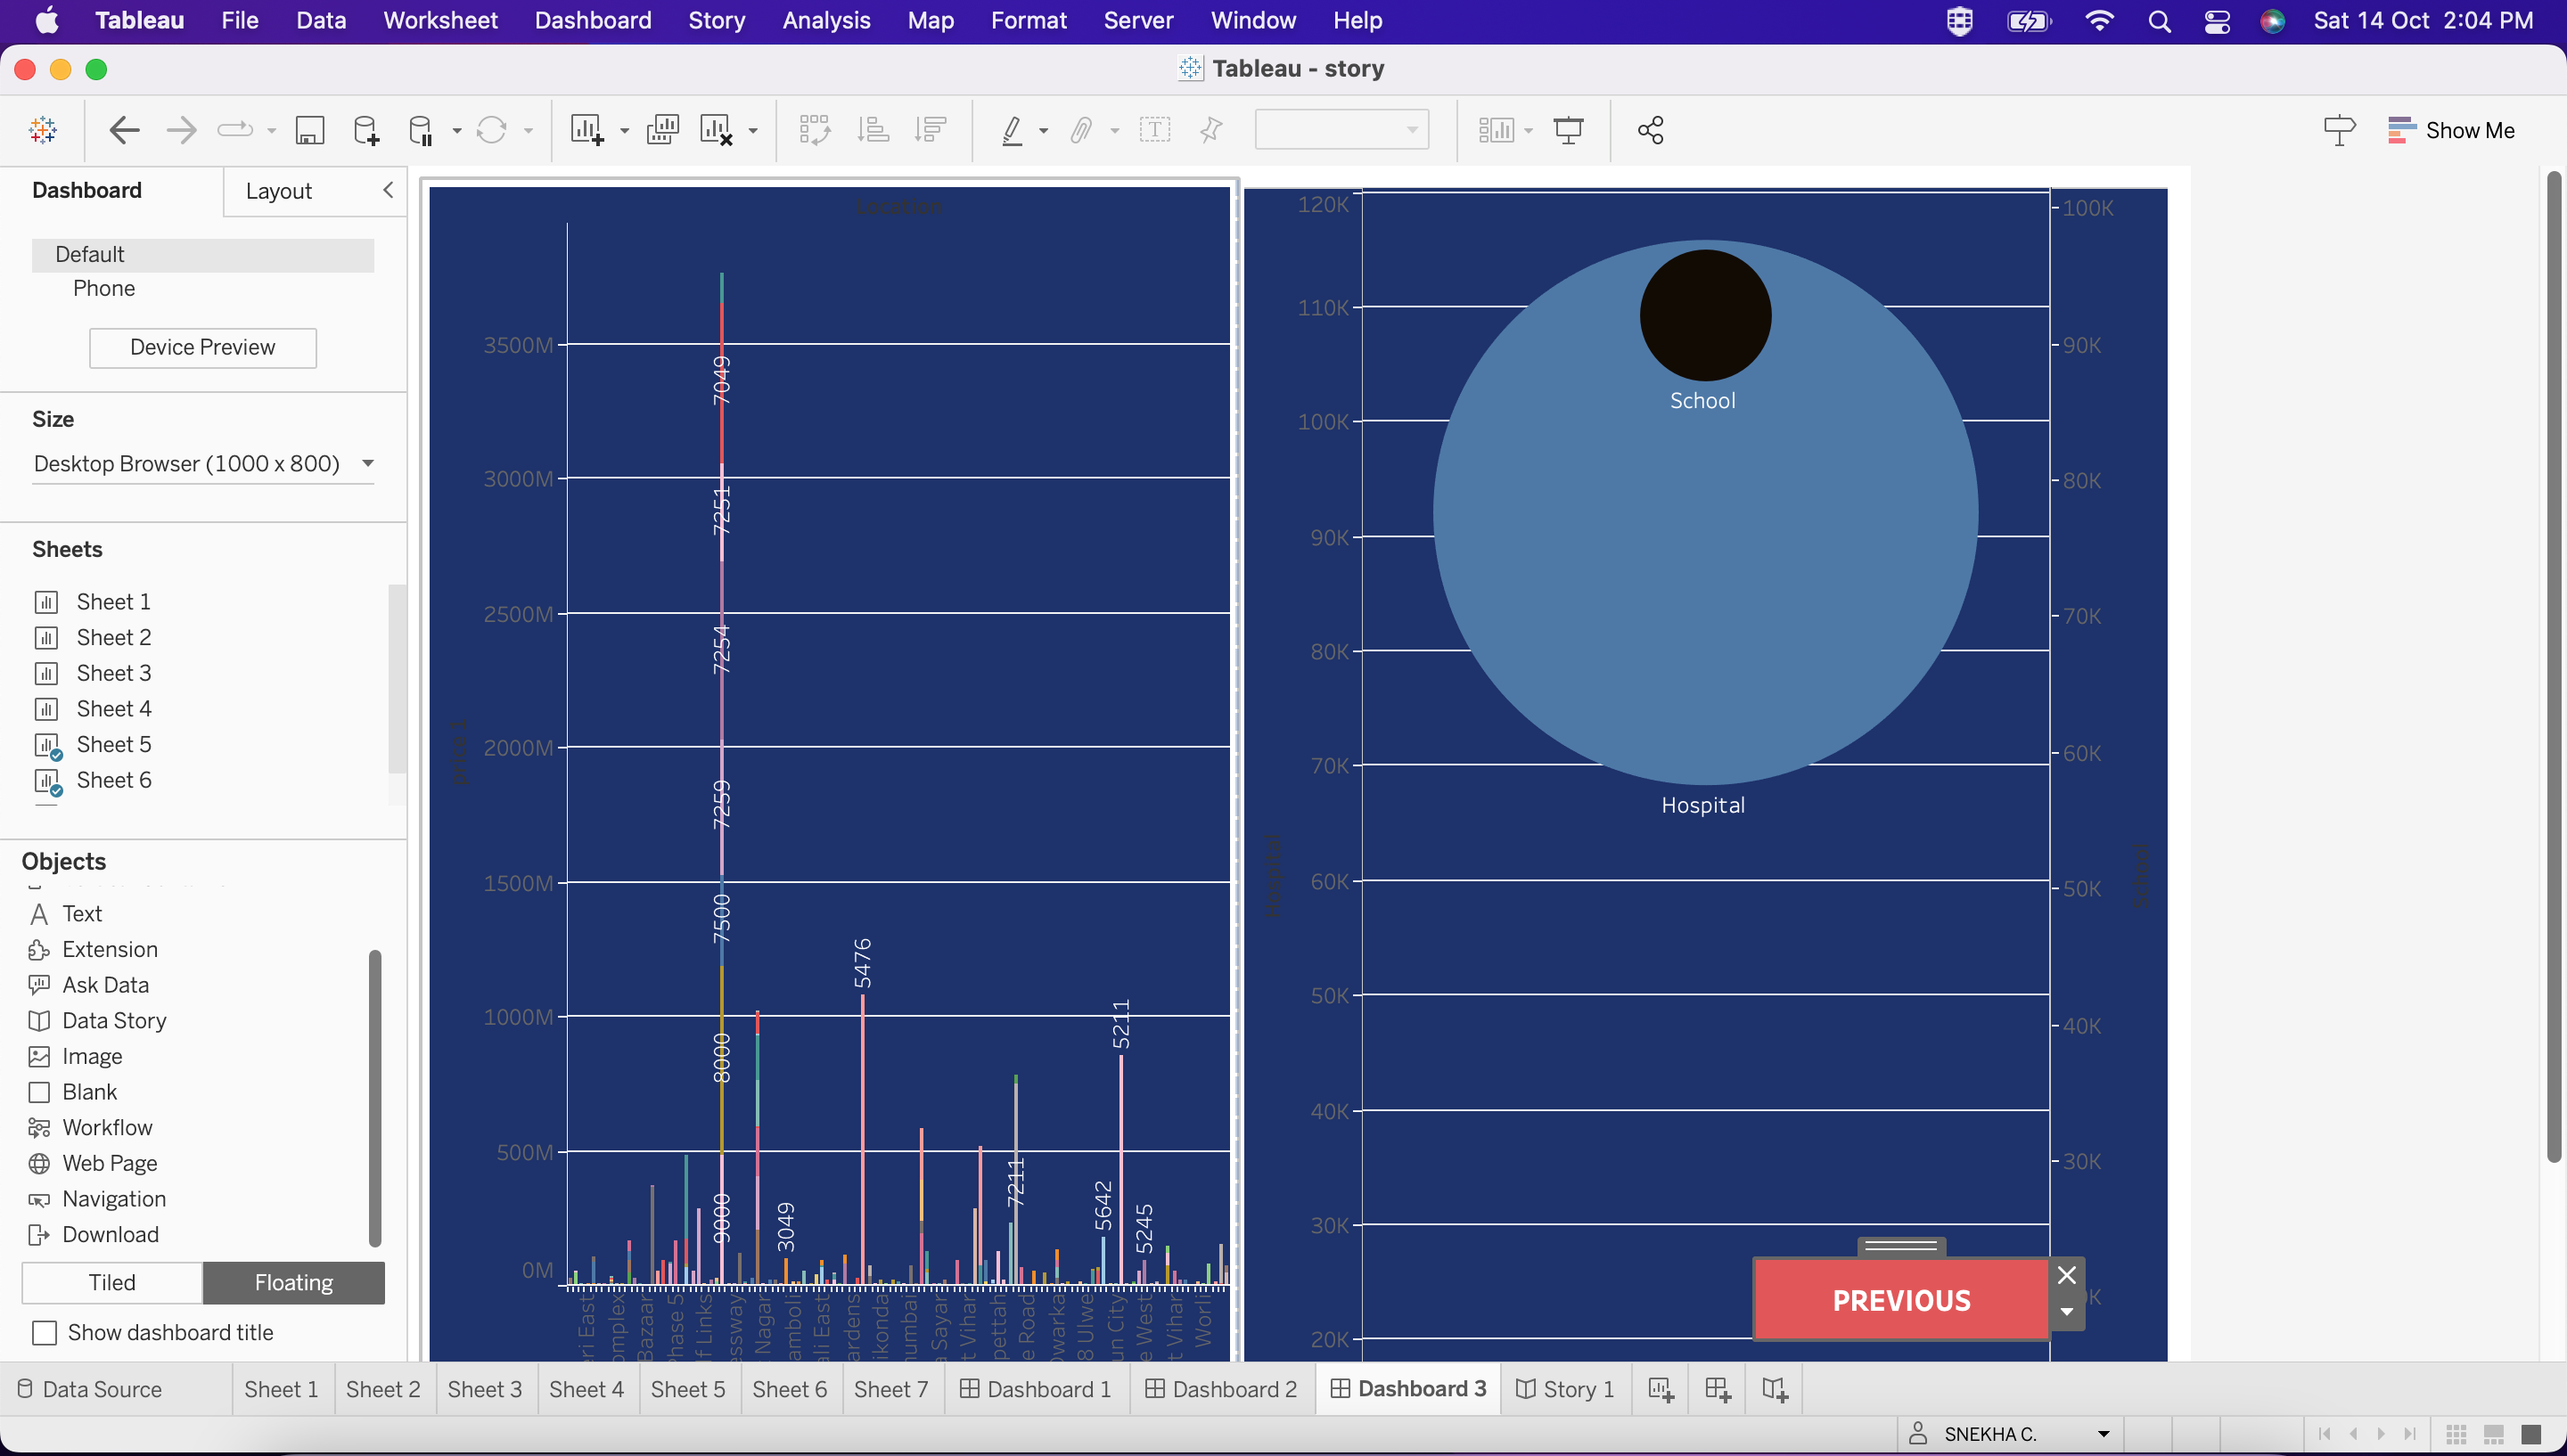

The dashboard page shown, as its layout file describes it:
{"tool":"tableau","page":{"name":"Dashboard 3","canvas":[1000,800],"ordinal":2},"visuals":[{"type":"worksheet","title":"Sheet 5","mark":"Automatic","rows":["Calculation_47428540635820040"],"cols":["Location"],"box":[8,8,457.4,784]},{"type":"worksheet","title":"Sheet 6","mark":"Circle","rows":["Hospital","School"],"box":[465.4,8,526.6,784]},{"type":"dashboard-object","box":[756,614,164,44]}]}

Visuals, with their boxes in screenshot pixels (x1, y1, x2, y2):
"Sheet 5" worksheet: crop(409, 35, 1231, 1443)
"Sheet 6" worksheet (Circle marks): crop(1231, 35, 2177, 1443)
dashboard-object: crop(1752, 1123, 2047, 1202)
